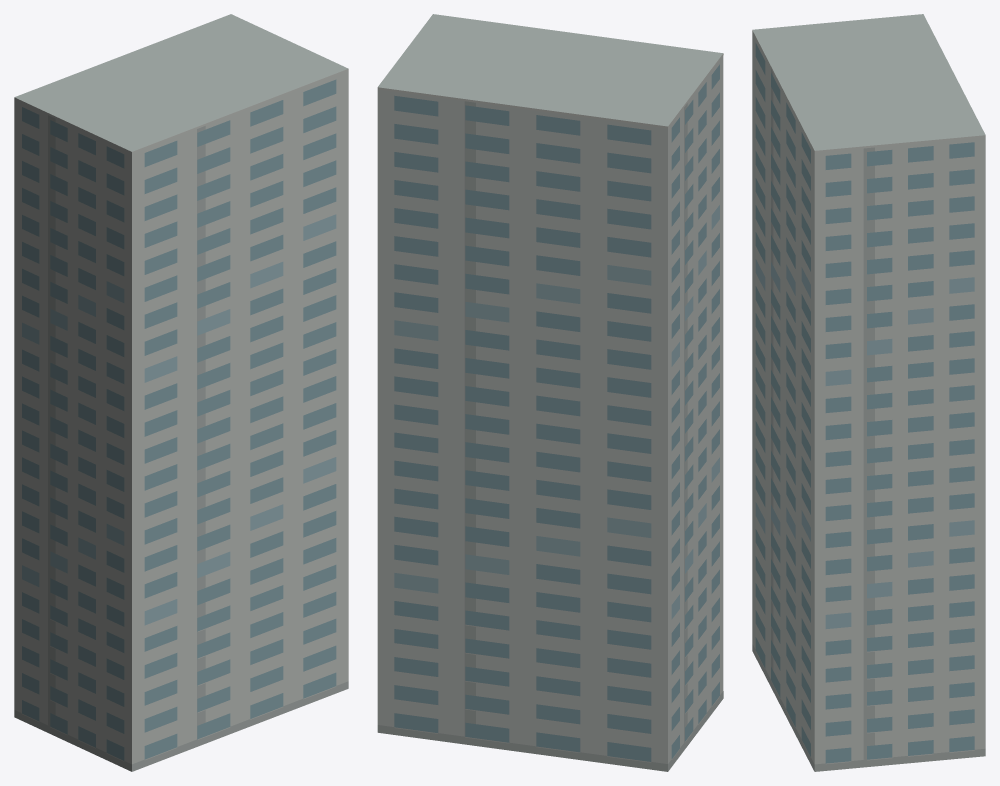
File: residential-5676e413-7d81-4765-aa1c-5e515384cba2.glb
3 renders of one model, left to right at view 1: azimuth 30°, elevation 25°; view 2: azimuth 150°, elevation 25°; view 3: azimuth 270°, elevation 25°, orthographic. The views are drawn at different scales.
Visible parts, largest first — view 1: residential-5676e413-7d81-4765-aa1c-5e515384cba2.tmp; view 2: residential-5676e413-7d81-4765-aa1c-5e515384cba2.tmp; view 3: residential-5676e413-7d81-4765-aa1c-5e515384cba2.tmp.
Boxes of the visible parts, x1,y1,x2,y2 form: residential-5676e413-7d81-4765-aa1c-5e515384cba2.tmp: (14, 14, 348, 771); residential-5676e413-7d81-4765-aa1c-5e515384cba2.tmp: (377, 14, 723, 771); residential-5676e413-7d81-4765-aa1c-5e515384cba2.tmp: (752, 14, 985, 771).
Bounding box in the file's own units: 34.05 × 72 × 24.55.
